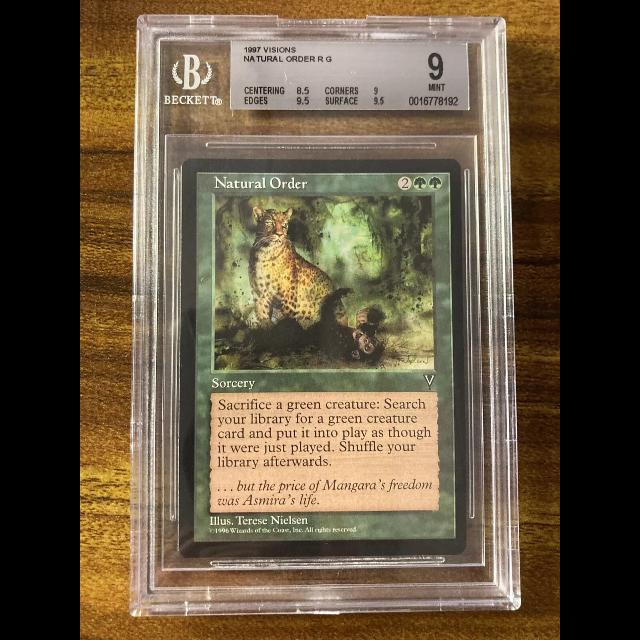bgs_label: (230, 40, 470, 110)
bgs_slab: (129, 13, 522, 617)
card: (177, 158, 468, 558)
